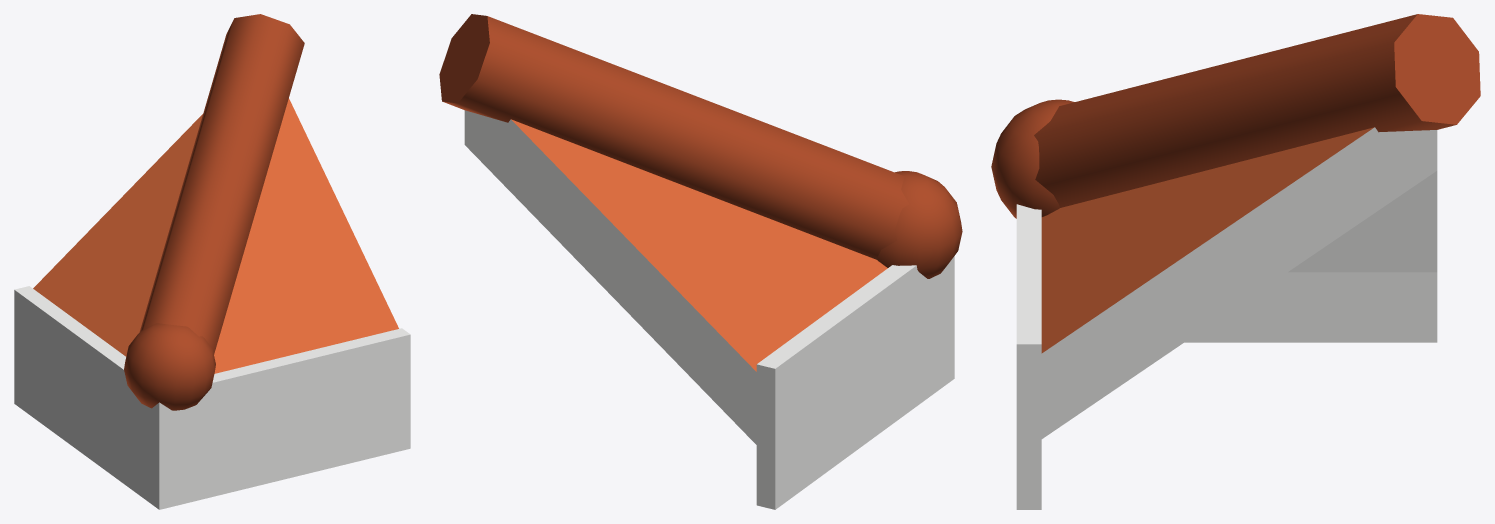
Rendered from telhado_beiral_canto_externo_i75.glb.
3 views of the same model, side by side, from view 1: azimuth 30°, elevation 25°; view 2: azimuth 150°, elevation 25°; view 3: azimuth 270°, elevation 25° (orthographic). The views are drawn at different scales.
Parts seen in each view (by area): view 1: telhado_beiral_canto_externo_i75; view 2: telhado_beiral_canto_externo_i75; view 3: telhado_beiral_canto_externo_i75.
Boxes of the visible parts, left/top/right/bottom form: telhado_beiral_canto_externo_i75: left=14, top=14, right=410, bottom=509; telhado_beiral_canto_externo_i75: left=439, top=14, right=962, bottom=509; telhado_beiral_canto_externo_i75: left=991, top=14, right=1480, bottom=509.
Size of the model in its own units: 0.5814 by 0.6393 by 0.5814.
